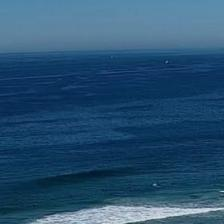surfer: (32, 204, 36, 206), (18, 202, 22, 204)
